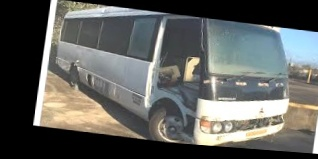bus: (45, 0, 301, 152)
